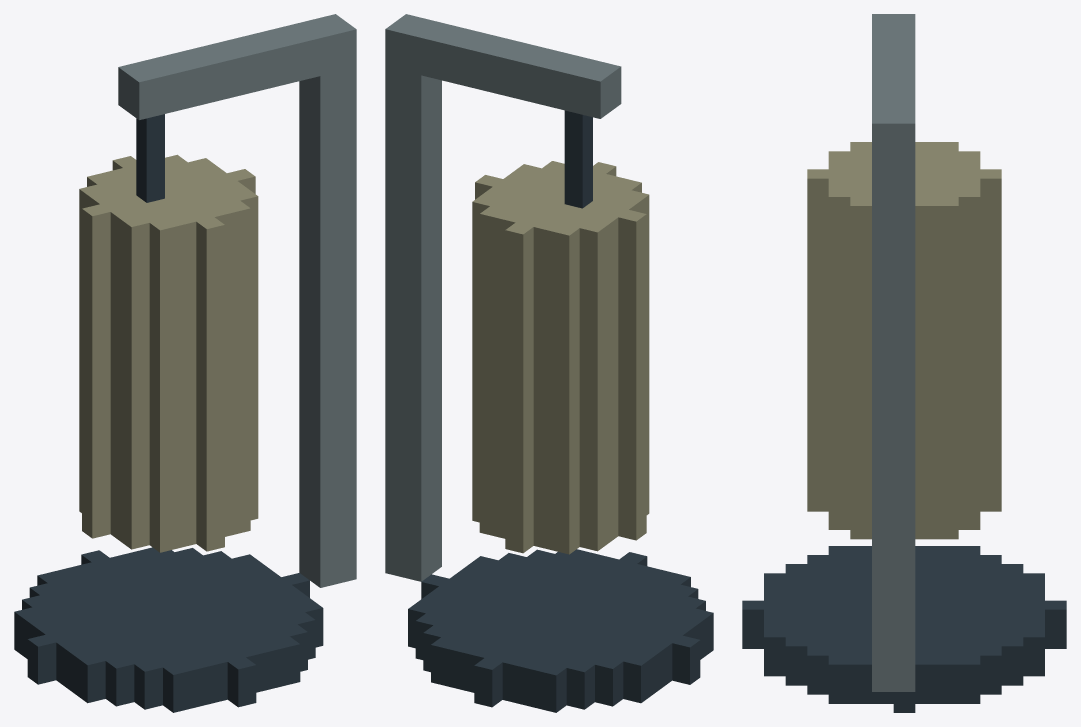
File: fitness-14.glb
3 renders of one model, left to right at view 1: azimuth 30°, elevation 25°; view 2: azimuth 150°, elevation 25°; view 3: azimuth 270°, elevation 25°, orthographic. The views are drawn at different scales.
Visible parts, largest first — view 1: Punching bag; view 2: Punching bag; view 3: Punching bag.
Part boxes in pixels (box(x1,y1,x2,y2)): Punching bag: box(14, 14, 356, 712); Punching bag: box(385, 14, 713, 712); Punching bag: box(742, 14, 1066, 712).
Bounding box in the file's own units: 1.36 × 2.48 × 1.2.
